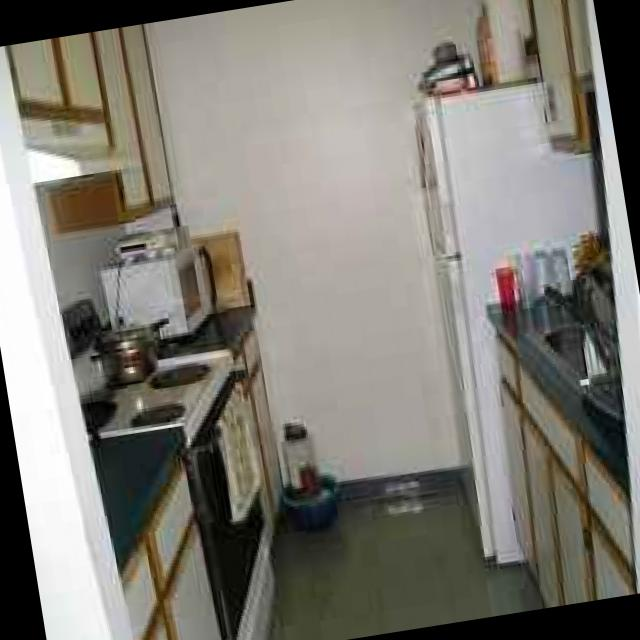2036: (484, 285, 626, 491)
basket crop: (278, 474, 336, 527)
bottle crop: (283, 423, 325, 498)
cupboard crop: (497, 335, 635, 605), (4, 24, 172, 229), (155, 300, 285, 524), (90, 429, 219, 640)
dishcloth: (212, 391, 259, 522)
extractor hood: (18, 107, 132, 181)
floor -X: (164, 464, 640, 640)
fridge crop: (413, 77, 570, 563)
microwave oven: (95, 235, 212, 337)
pressure cooker: (84, 312, 166, 381)
sink basin: (524, 318, 620, 384)
stove burner: (62, 291, 275, 640)
wall clock: (146, 0, 579, 513), (0, 29, 241, 640), (535, 0, 640, 531)
